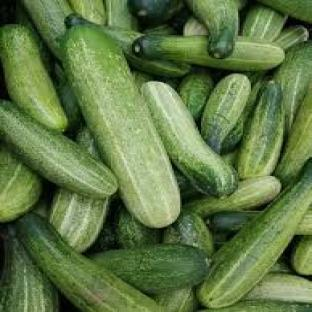Cucumber: (62, 26, 180, 227), (198, 160, 311, 308), (15, 214, 160, 311), (0, 100, 117, 197), (142, 81, 236, 197), (0, 25, 67, 131), (91, 244, 209, 293), (134, 35, 284, 71), (0, 226, 59, 311), (99, 26, 191, 77), (237, 81, 284, 179), (184, 176, 281, 218), (50, 188, 109, 252), (202, 74, 250, 152), (274, 41, 311, 134), (276, 86, 311, 184), (222, 72, 263, 152), (0, 144, 41, 222), (15, 3, 51, 72), (163, 214, 213, 256), (245, 274, 311, 303), (54, 66, 82, 132), (115, 208, 160, 249), (179, 68, 213, 120), (242, 4, 286, 40), (210, 211, 260, 232), (89, 215, 117, 252), (197, 302, 311, 311), (153, 288, 197, 311), (221, 111, 244, 154), (174, 169, 202, 201), (276, 26, 308, 50), (292, 237, 311, 275), (168, 8, 191, 33), (184, 17, 209, 36), (132, 70, 152, 89), (269, 257, 292, 273), (33, 197, 49, 218), (155, 78, 180, 91), (144, 25, 176, 34), (222, 150, 238, 166)
